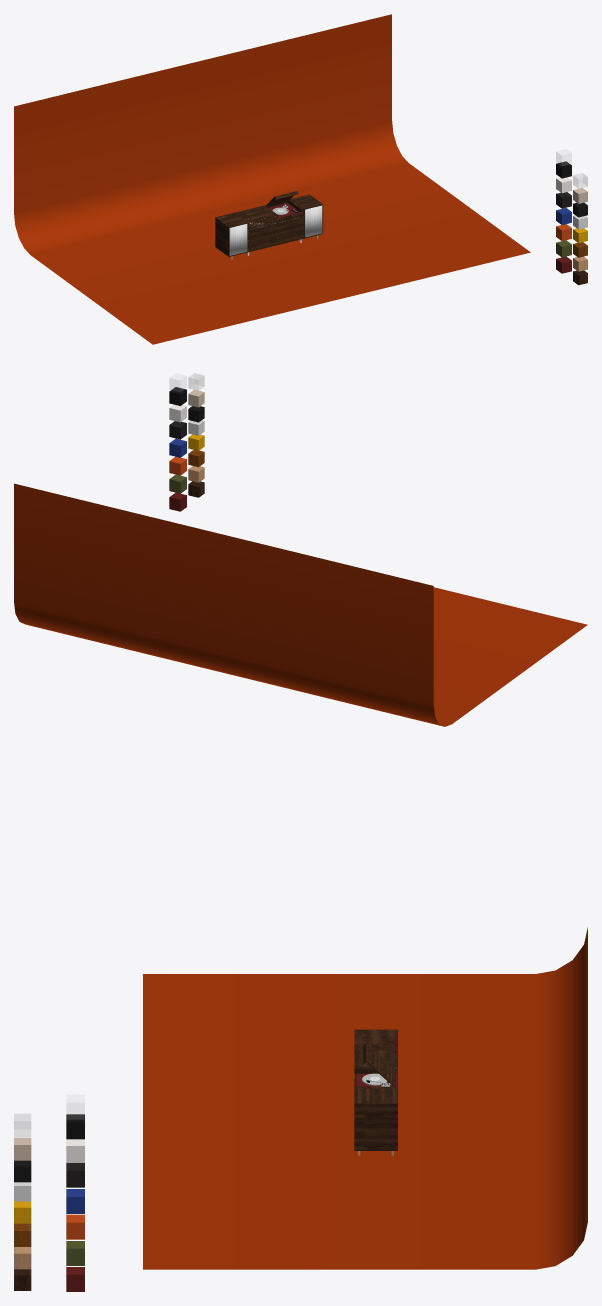
File: 3DTOWEBB_FINAL_TEST_ADD_ACRYLIC_BASE.glb
The picture shows the model from 3 angles, top to bottom: view 1: azimuth 30°, elevation 25°; view 2: azimuth 150°, elevation 25°; view 3: azimuth 270°, elevation 25°; orthographic projection. The views are drawn at different scales.
Parts seen in each view (by area): view 1: Scene_Orange, Console_Large, Cabinet_Smooth, Cabinet_Textured, Speaker, NS_Textured; view 2: Scene_Orange; view 3: Scene_Orange, Console_Large, Recordplayer_Cover.
Boxes of the visible parts, x1,y1,x2,y2 form: Scene_Orange: (14, 14, 530, 344); Console_Large: (215, 194, 323, 256); Cabinet_Smooth: (248, 216, 303, 252); Cabinet_Textured: (249, 216, 302, 251); Speaker: (229, 205, 322, 255); NS_Textured: (230, 206, 321, 255); Scene_Orange: (14, 483, 587, 726); Scene_Orange: (143, 927, 587, 1269); Console_Large: (354, 1029, 397, 1150); Recordplayer_Cover: (362, 1043, 396, 1086).
Bounding box in the file's own units: 8.37 × 2.88 × 6.57.
Materials: 34 (8 with a texture image).
